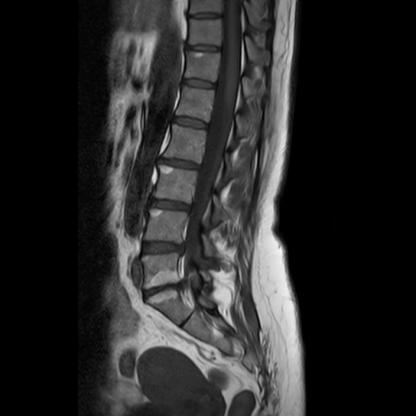Disc Bulgerotation: (141, 238, 186, 258), (141, 282, 184, 298)
